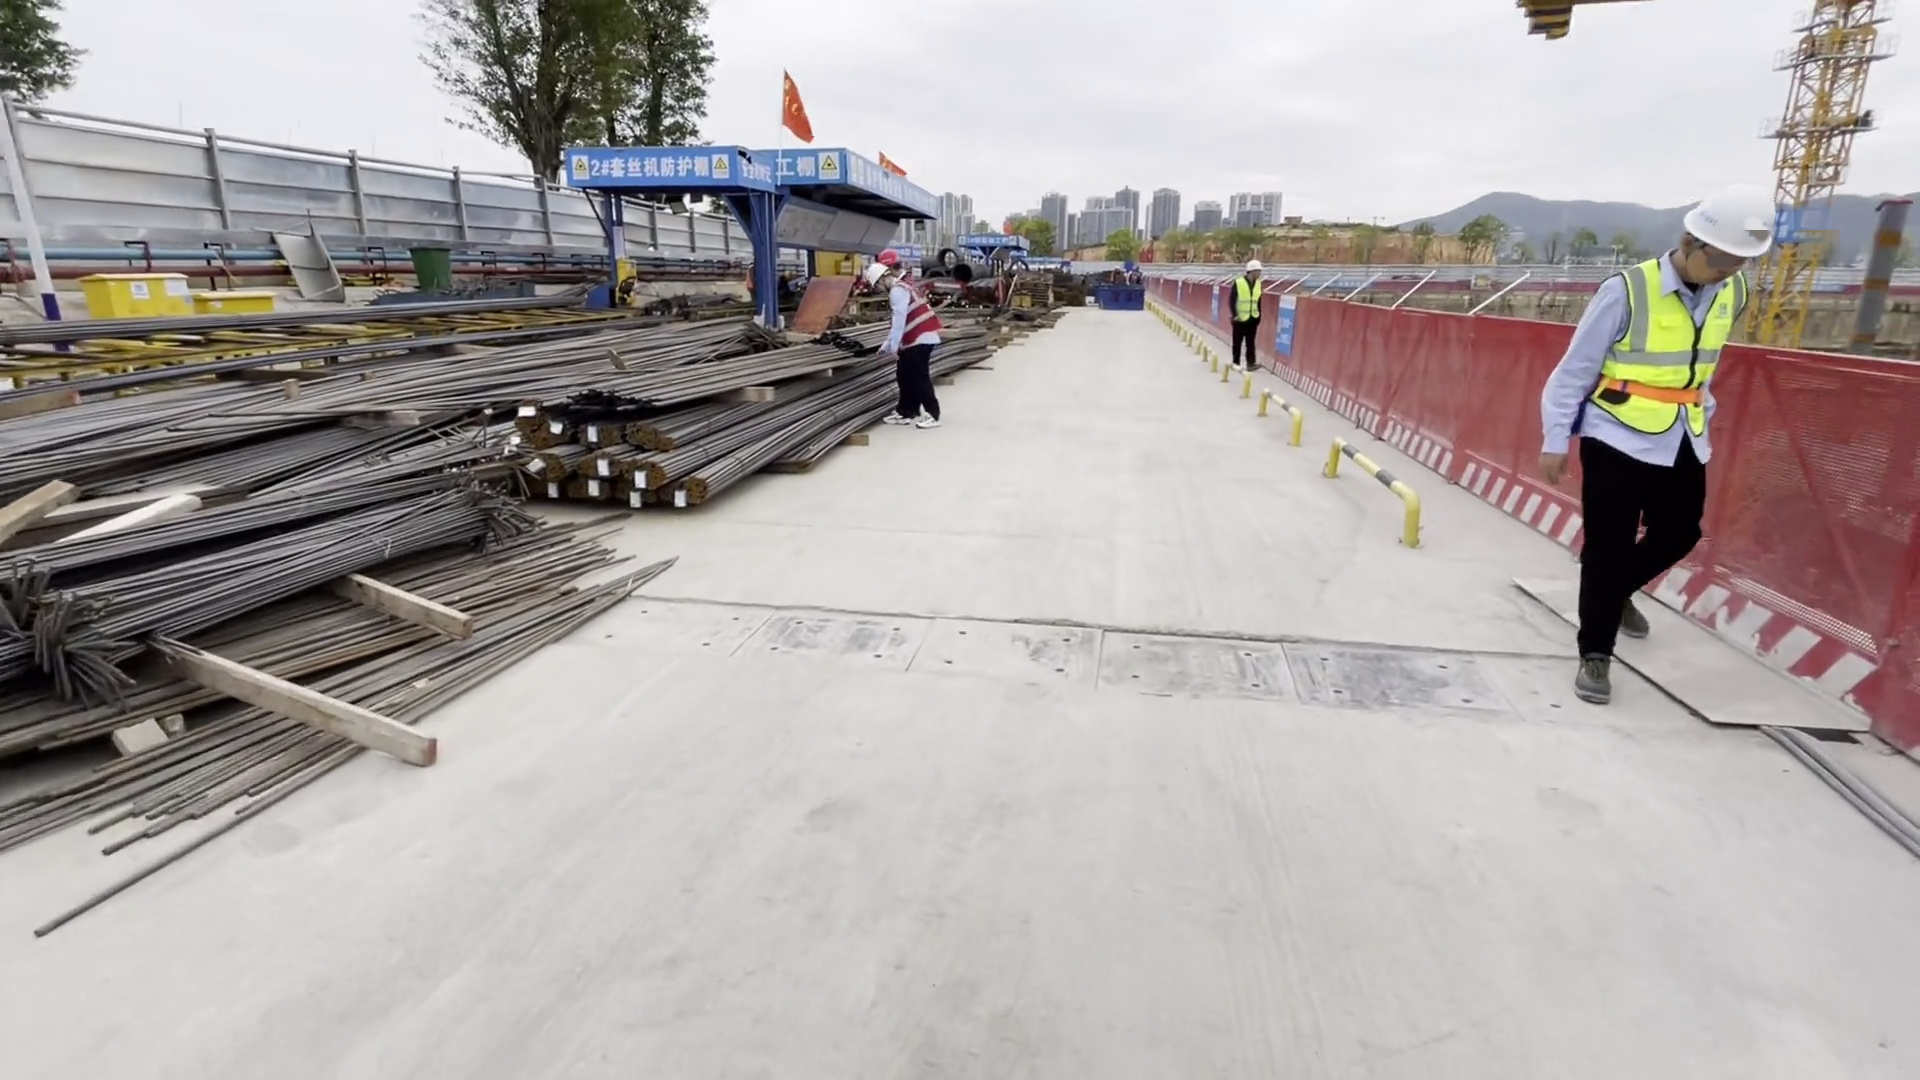ebox: (79, 270, 276, 327), (615, 257, 634, 290)
fence: (1255, 275, 1593, 556), (1715, 356, 1920, 758), (1146, 270, 1246, 346)
helmet: (1662, 181, 1773, 254), (862, 259, 883, 285), (874, 250, 900, 266), (1247, 260, 1263, 272)
hopper: (1095, 283, 1144, 312)
person: (1548, 170, 1748, 732), (871, 267, 940, 425), (885, 252, 925, 423), (1231, 261, 1265, 373)
rebar: (1, 308, 996, 887)
slogan: (815, 150, 840, 181), (705, 153, 732, 181), (571, 153, 589, 181)
vest: (1596, 254, 1740, 451), (894, 285, 935, 349), (1234, 278, 1259, 322)
